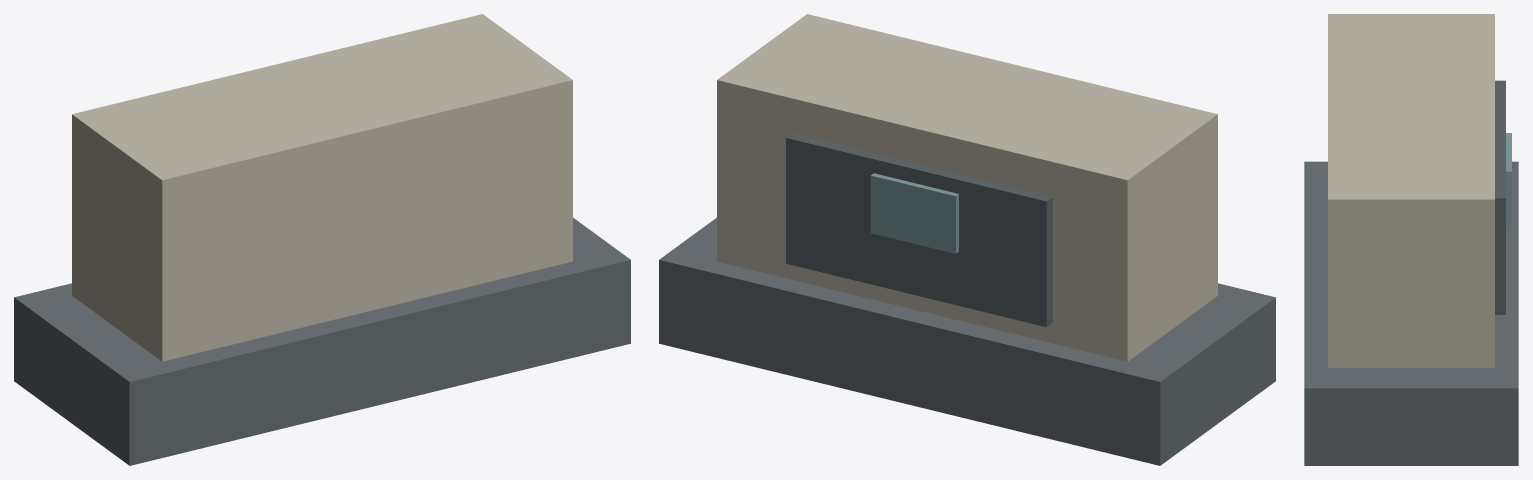
File: iz3_prison_control_01.glb
3 renders of one model, left to right at view 1: azimuth 30°, elevation 25°; view 2: azimuth 150°, elevation 25°; view 3: azimuth 270°, elevation 25°, orthographic. The views are drawn at different scales.
Parts seen in each view (by area): view 1: cabinet, base; view 2: cabinet, base, panel, display; view 3: cabinet, base, panel, display.
Boxes of the visible parts, x1=… form: cabinet: x1=72, y1=14, x2=572, y2=361; base: x1=14, y1=217, x2=630, y2=465; cabinet: x1=717, y1=14, x2=1217, y2=361; base: x1=659, y1=217, x2=1275, y2=465; panel: x1=786, y1=133, x2=1052, y2=327; display: x1=870, y1=173, x2=958, y2=253; cabinet: x1=1328, y1=14, x2=1494, y2=367; base: x1=1304, y1=161, x2=1518, y2=465; panel: x1=1495, y1=80, x2=1505, y2=314; display: x1=1506, y1=133, x2=1511, y2=224.
Size of the model in its own units: 2 by 1.01 by 0.8.
